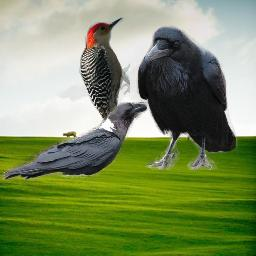Crow: (136, 25, 238, 170), (2, 102, 148, 181)
Woodpecker: (79, 17, 130, 132)
